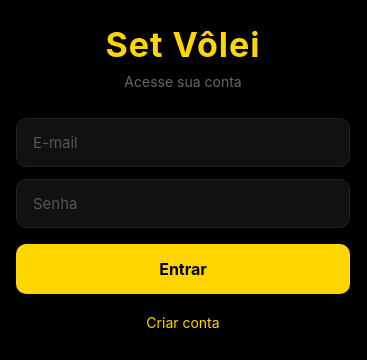
LoginScreen (integration) › shows an error for invalid credentials
Type "pedrocoelho@gmail.com" into the field with test id "login-email-input" at (183, 142), box [16,118,350,166]
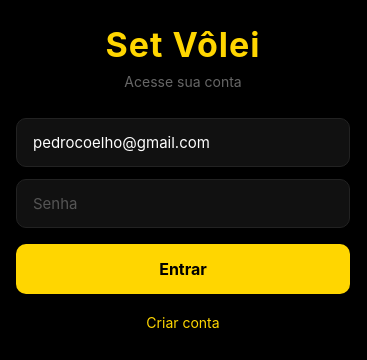
Type "senha-errada" into the password field with test id "login-password-input" at (183, 203), box [16,178,350,228]
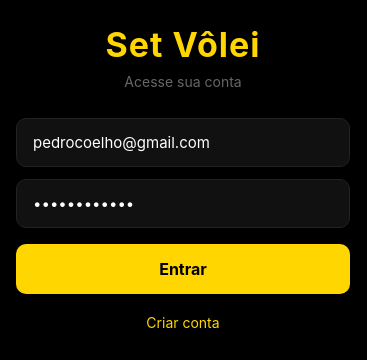
Click the button with test id "login-submit-button" at (183, 268), box [16,244,350,294]
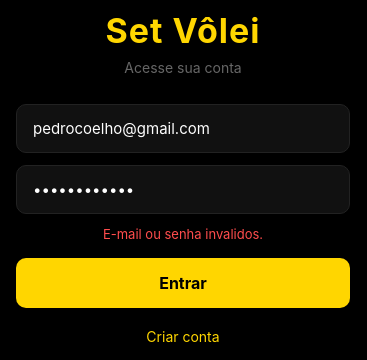
Expected: the text with test id "login-error" shows "invalidos", [103,226,263,242]
